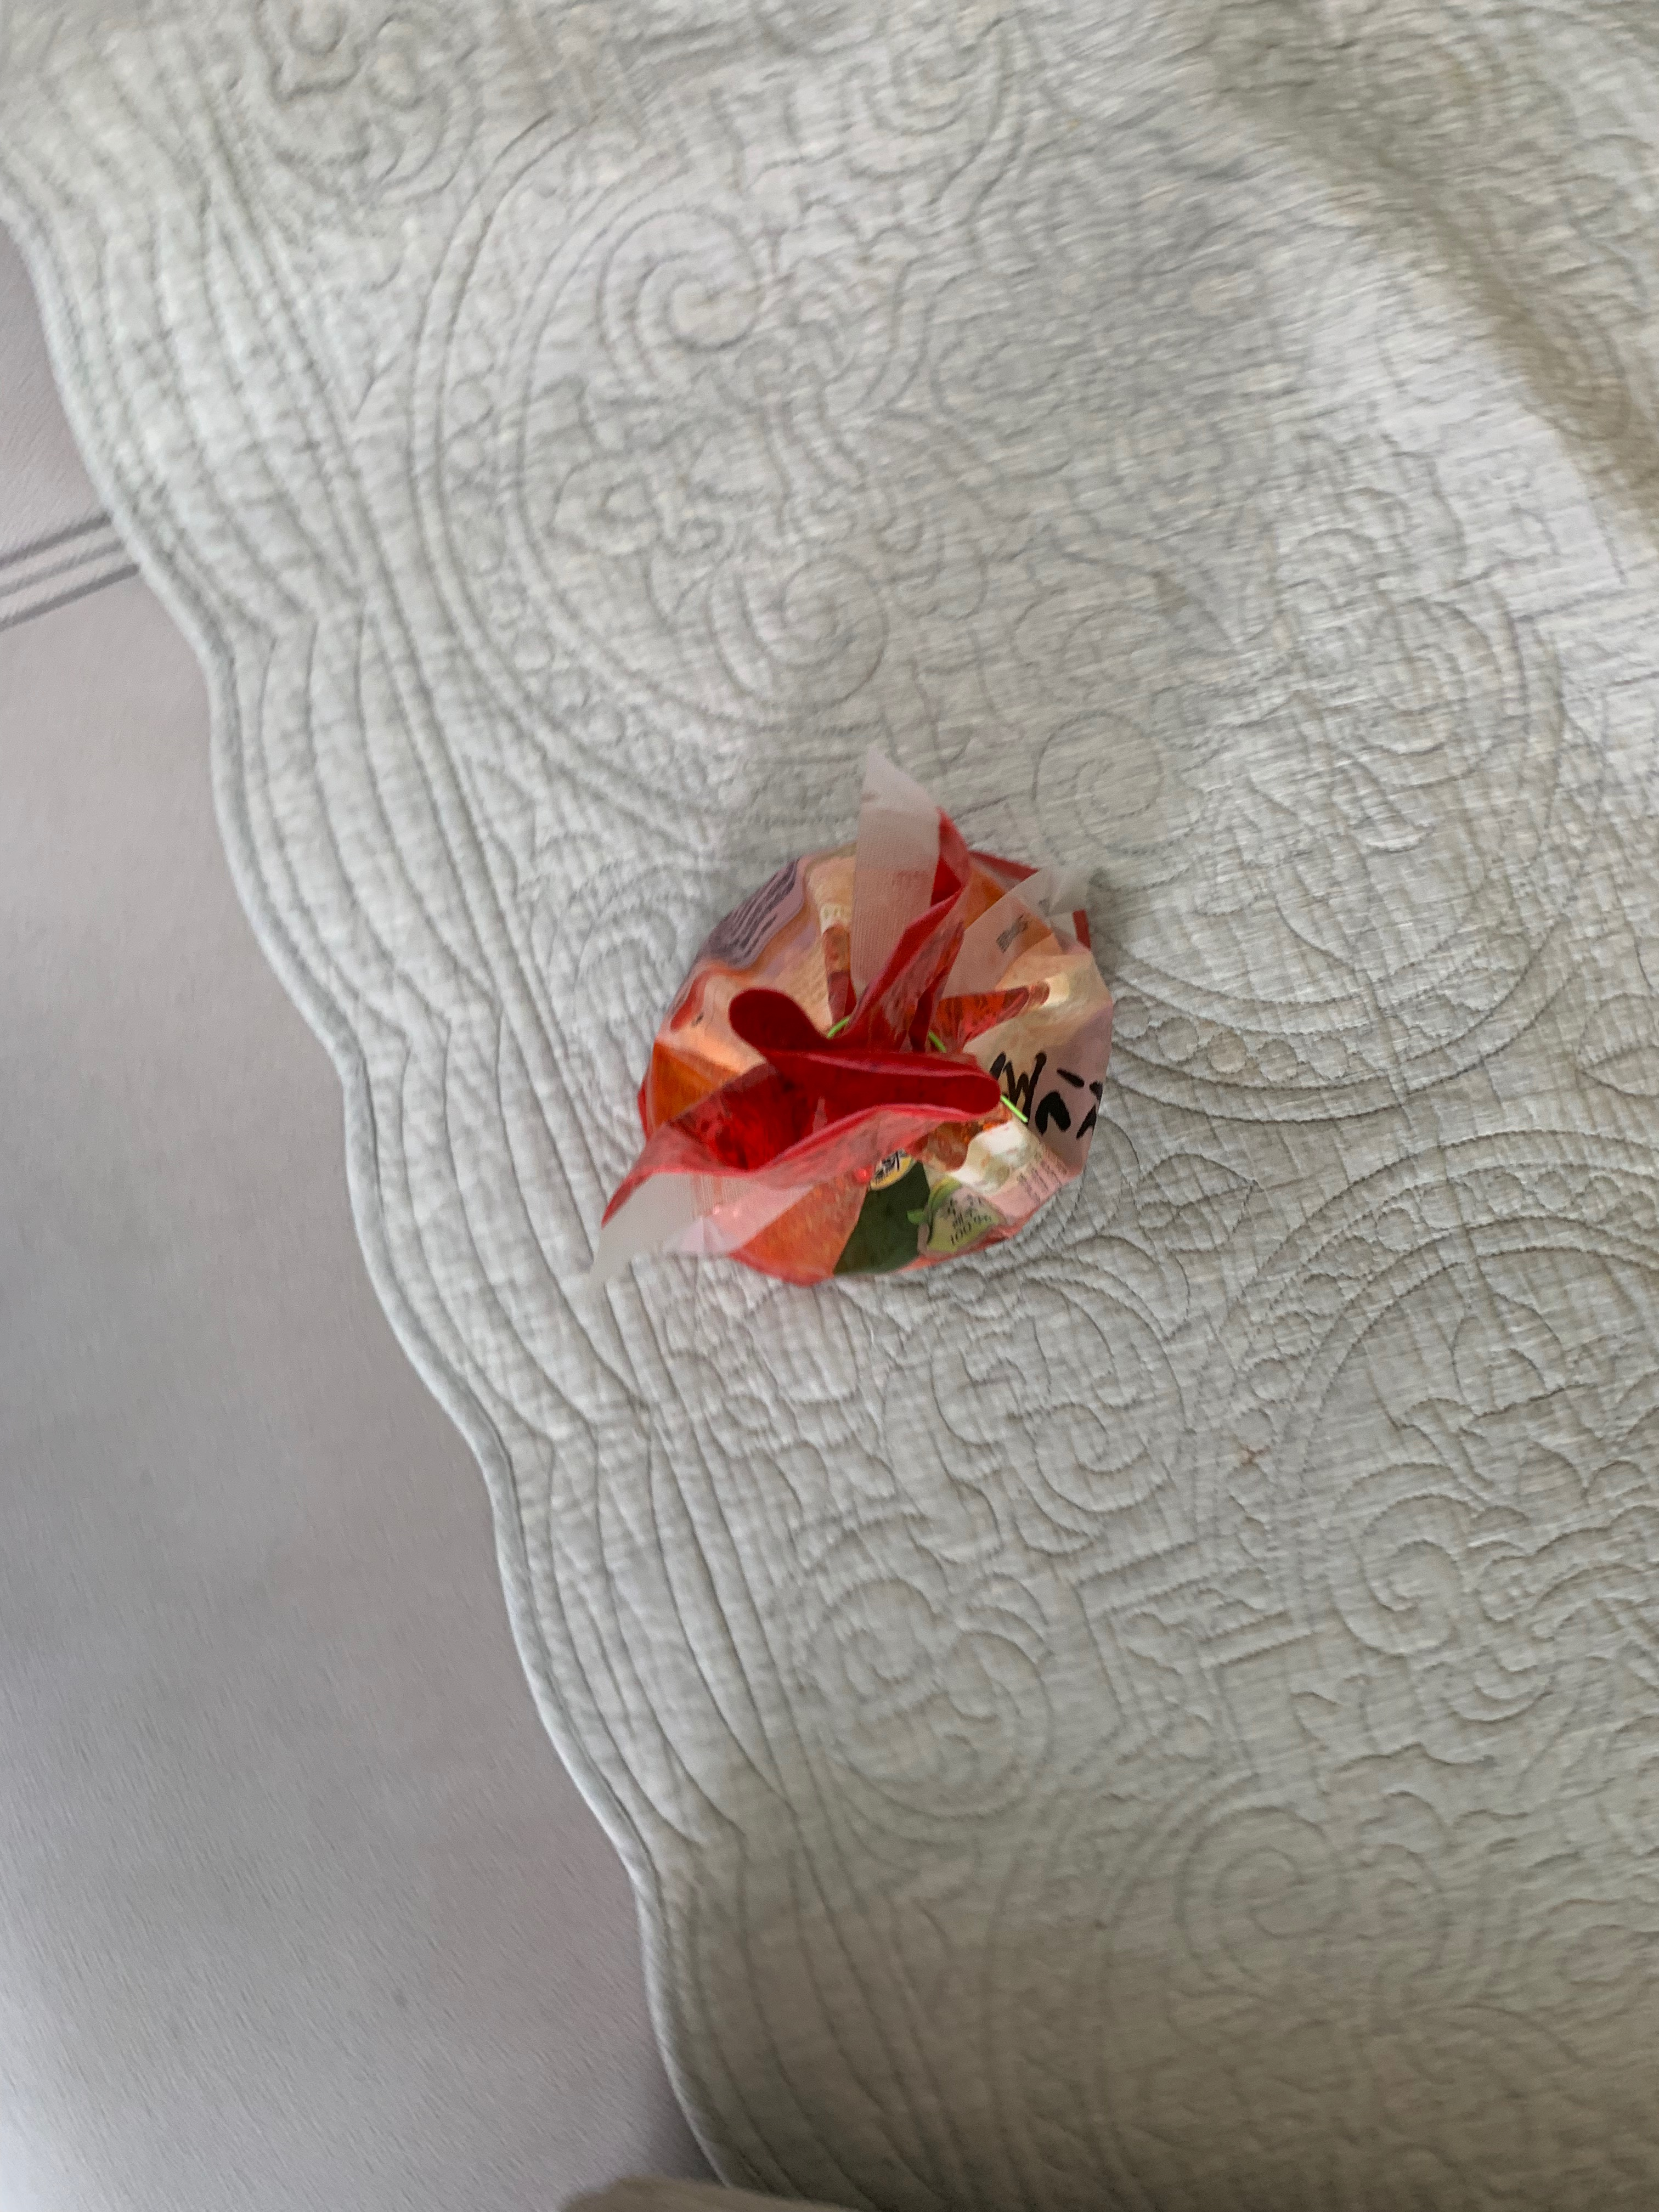kimchi: (643, 843, 1117, 1278)
